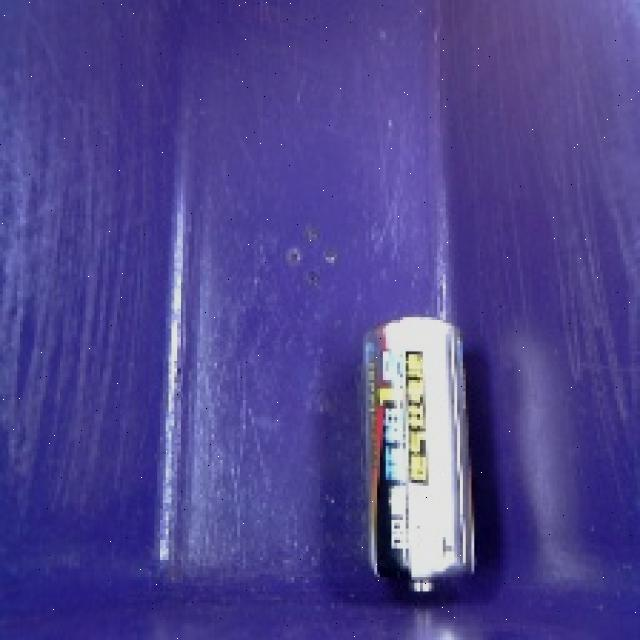battery: (350, 302, 493, 618)
